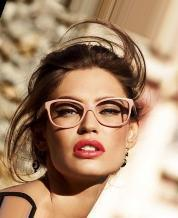face: (55, 97, 123, 159)
